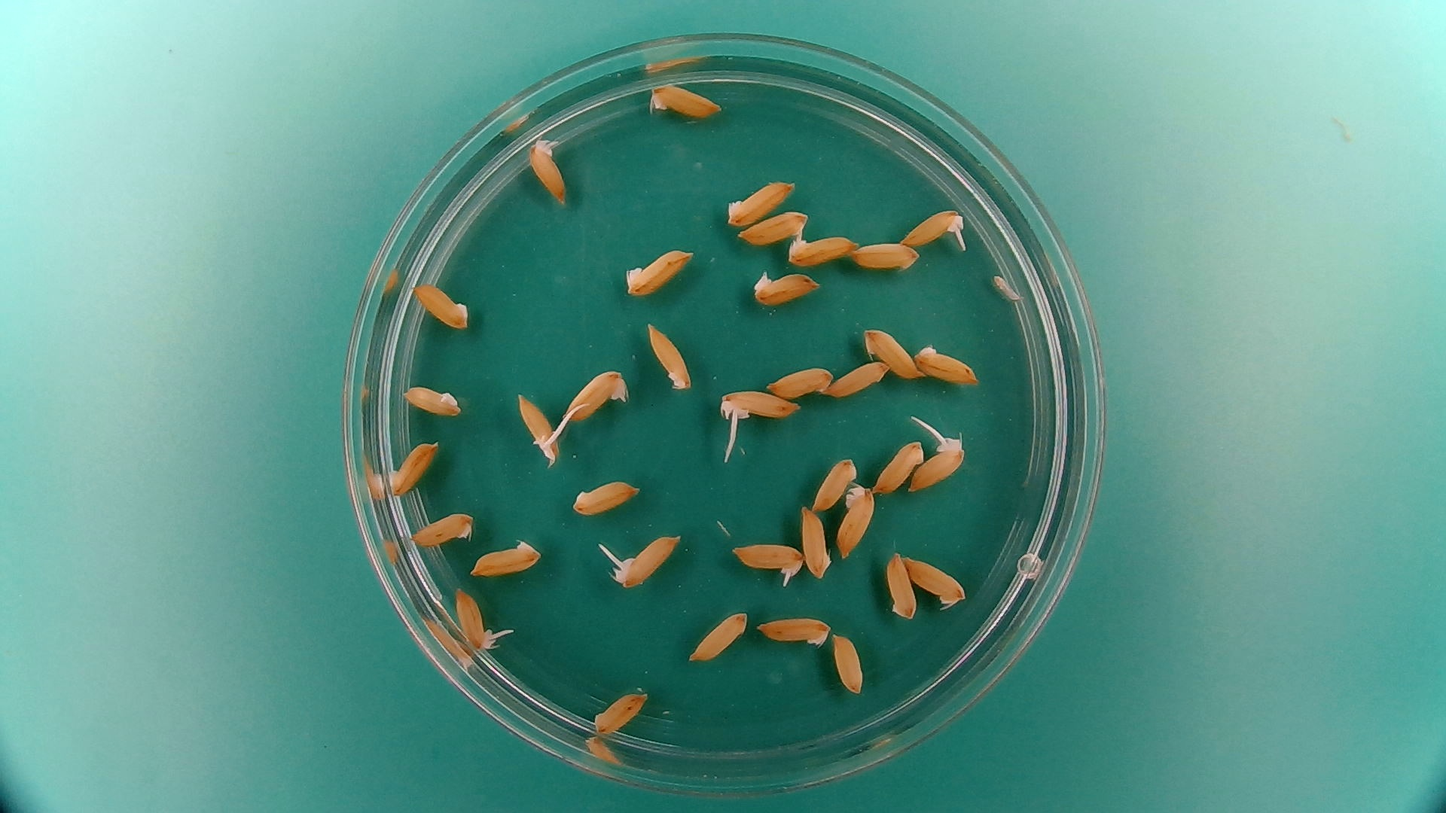no: (560, 363, 631, 424), (621, 243, 697, 298), (899, 553, 969, 611), (723, 176, 800, 226), (644, 319, 694, 394), (687, 607, 752, 663), (641, 79, 729, 120), (383, 436, 441, 497), (861, 323, 924, 379), (834, 482, 877, 561), (465, 537, 545, 579), (410, 279, 472, 332), (913, 340, 982, 387), (590, 687, 651, 738), (734, 208, 812, 247), (568, 476, 642, 517), (748, 267, 822, 307), (810, 452, 859, 512), (874, 435, 924, 493), (764, 361, 835, 400), (824, 357, 889, 399), (799, 501, 832, 582), (410, 509, 475, 550), (753, 612, 827, 647), (884, 549, 919, 622), (830, 629, 866, 696), (401, 382, 463, 420), (849, 240, 919, 273)
yes: (612, 531, 685, 592), (512, 389, 564, 467), (729, 538, 805, 585), (450, 588, 504, 653), (911, 433, 966, 495), (718, 385, 802, 423), (526, 136, 569, 207), (897, 206, 968, 249), (784, 229, 859, 268)
